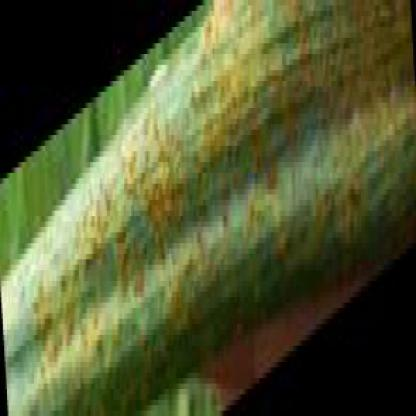Wheat Brown-rust: (196, 42, 265, 239), (26, 257, 117, 396), (268, 39, 314, 242), (361, 6, 415, 163), (318, 26, 358, 224), (119, 221, 163, 356), (124, 124, 170, 214), (170, 264, 220, 324), (172, 137, 191, 241), (81, 189, 113, 244), (213, 9, 239, 39)
